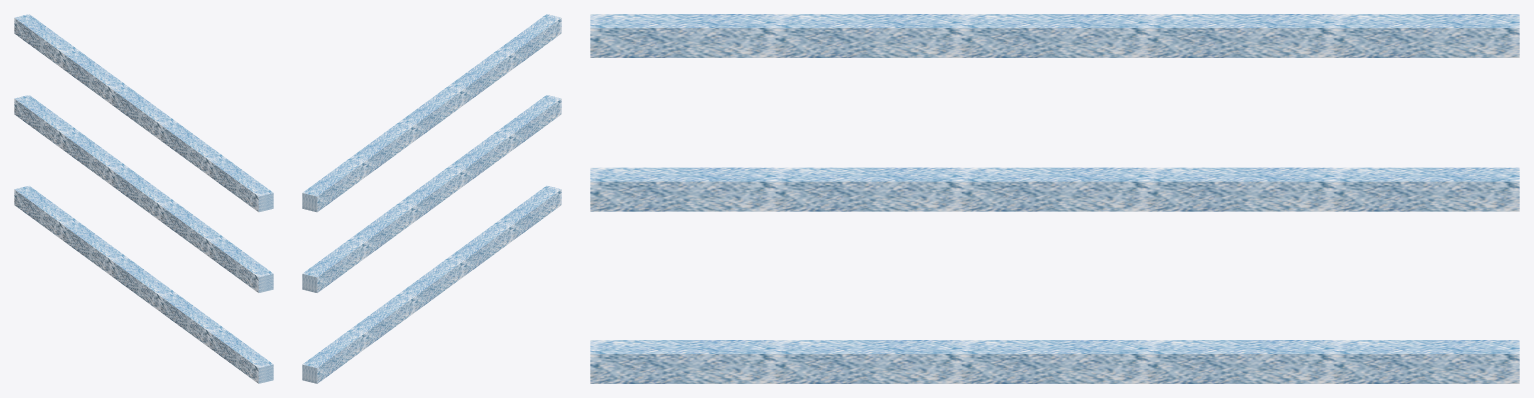
Rendered from bes2_bldg_bars.glb.
The picture shows the model from 3 angles, left to right: view 1: azimuth 30°, elevation 25°; view 2: azimuth 150°, elevation 25°; view 3: azimuth 270°, elevation 25°; orthographic projection. The views are drawn at different scales.
Visible parts, largest first — view 1: mesh_part1; view 2: mesh_part1; view 3: mesh_part1.
Part boxes in pixels (<box>): mesh_part1: <box>14,14,273,383</box>; mesh_part1: <box>302,14,561,383</box>; mesh_part1: <box>590,14,1519,383</box>.
Bounding box in the file's own units: 0.185 × 2.19 × 5.19.
Materials: 1 (1 with a texture image).
